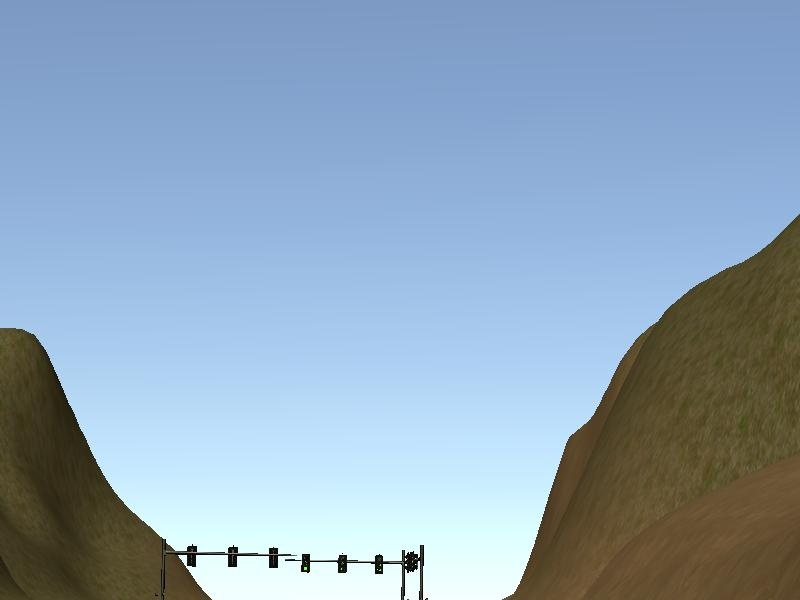traffic_light_green: (294, 552, 404, 575)
